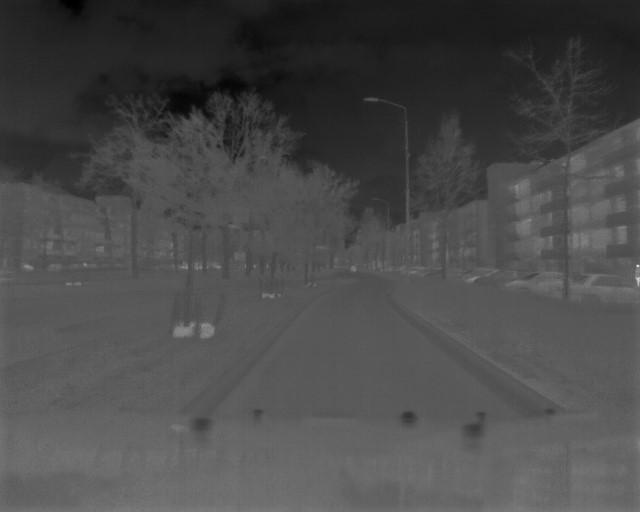car: (559, 271, 640, 310), (505, 264, 566, 303)
